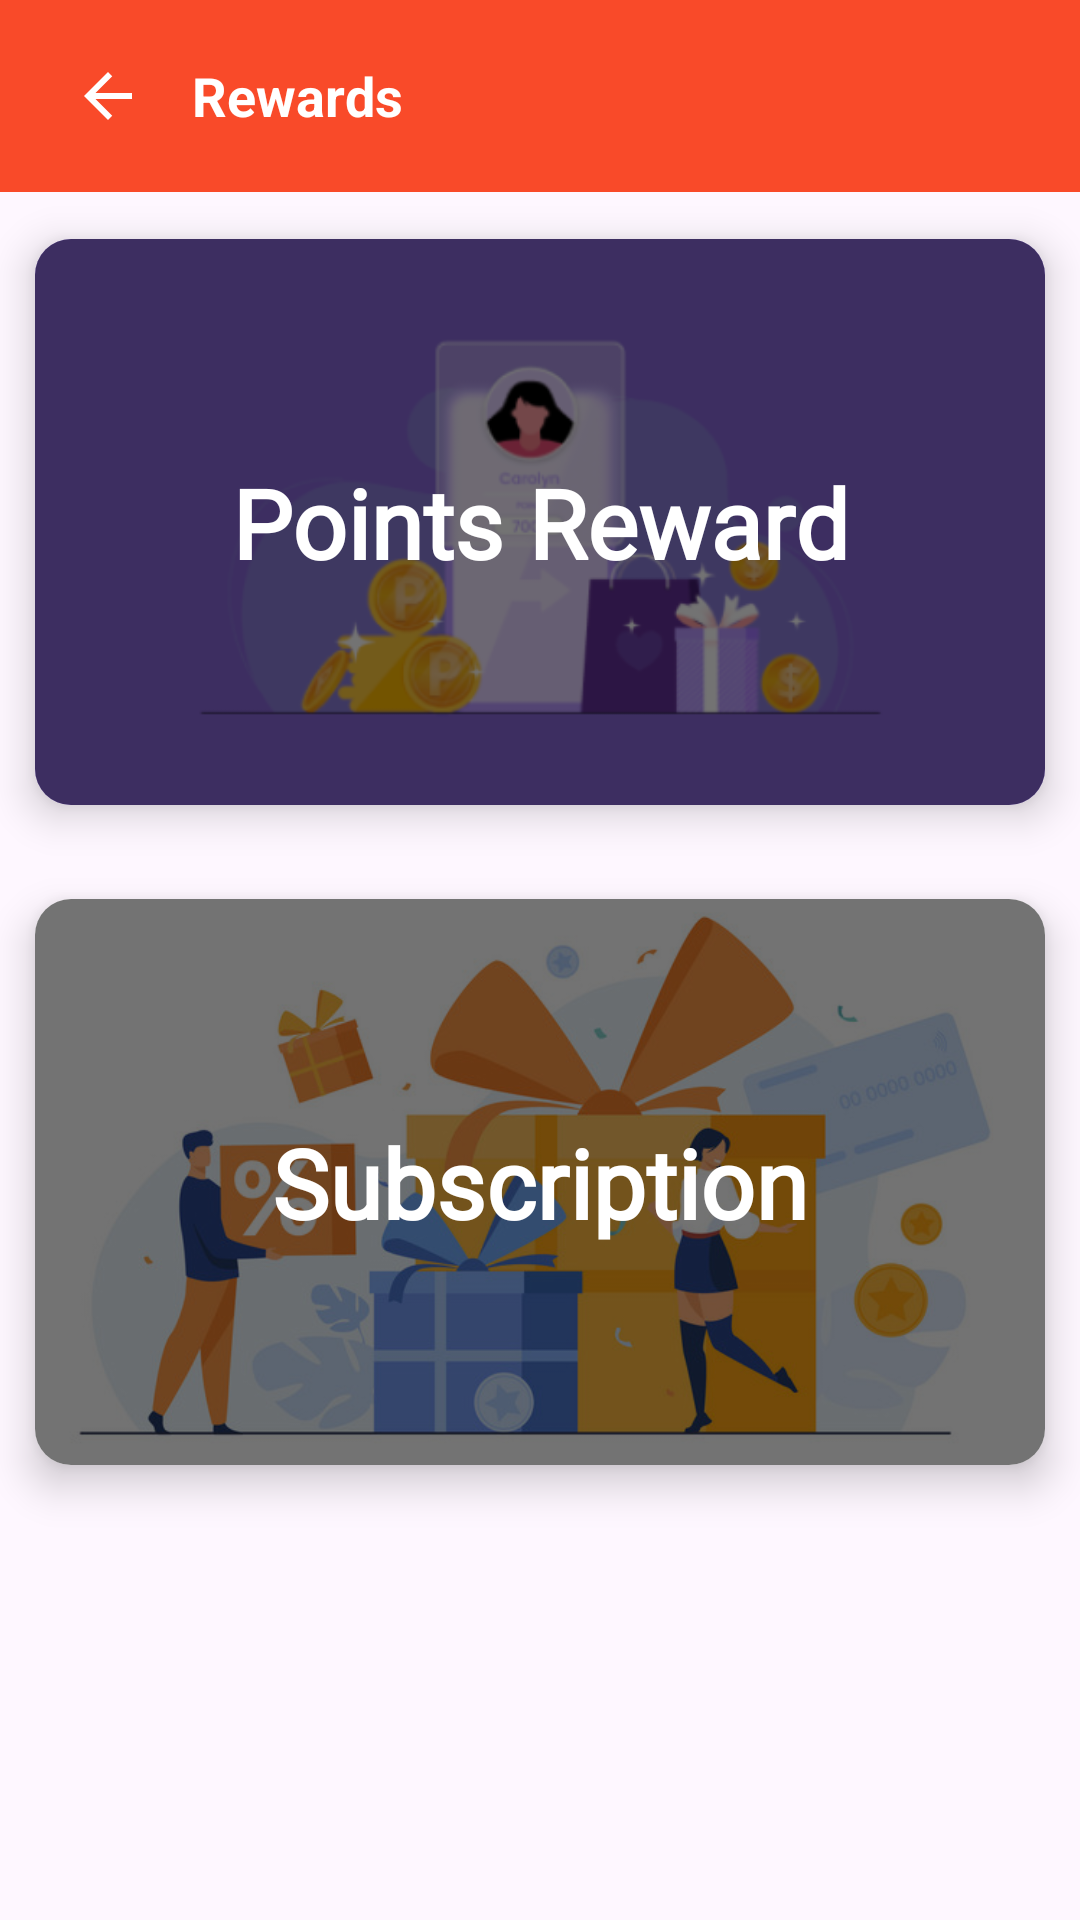

Where to tap for icons on this 1080x1920 app screen, as [x,y]:
arrow back: [108,96]
